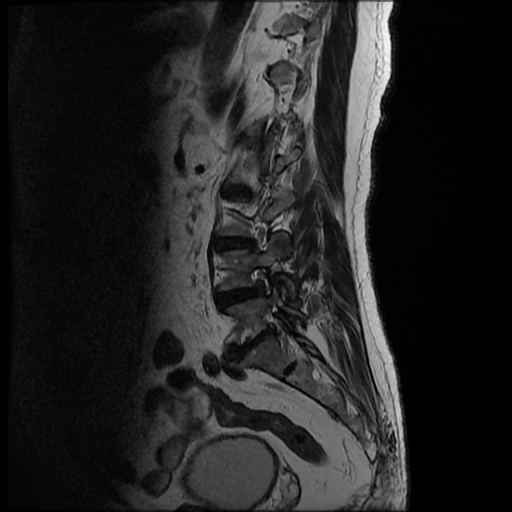LFS2: (245, 257, 279, 302)
